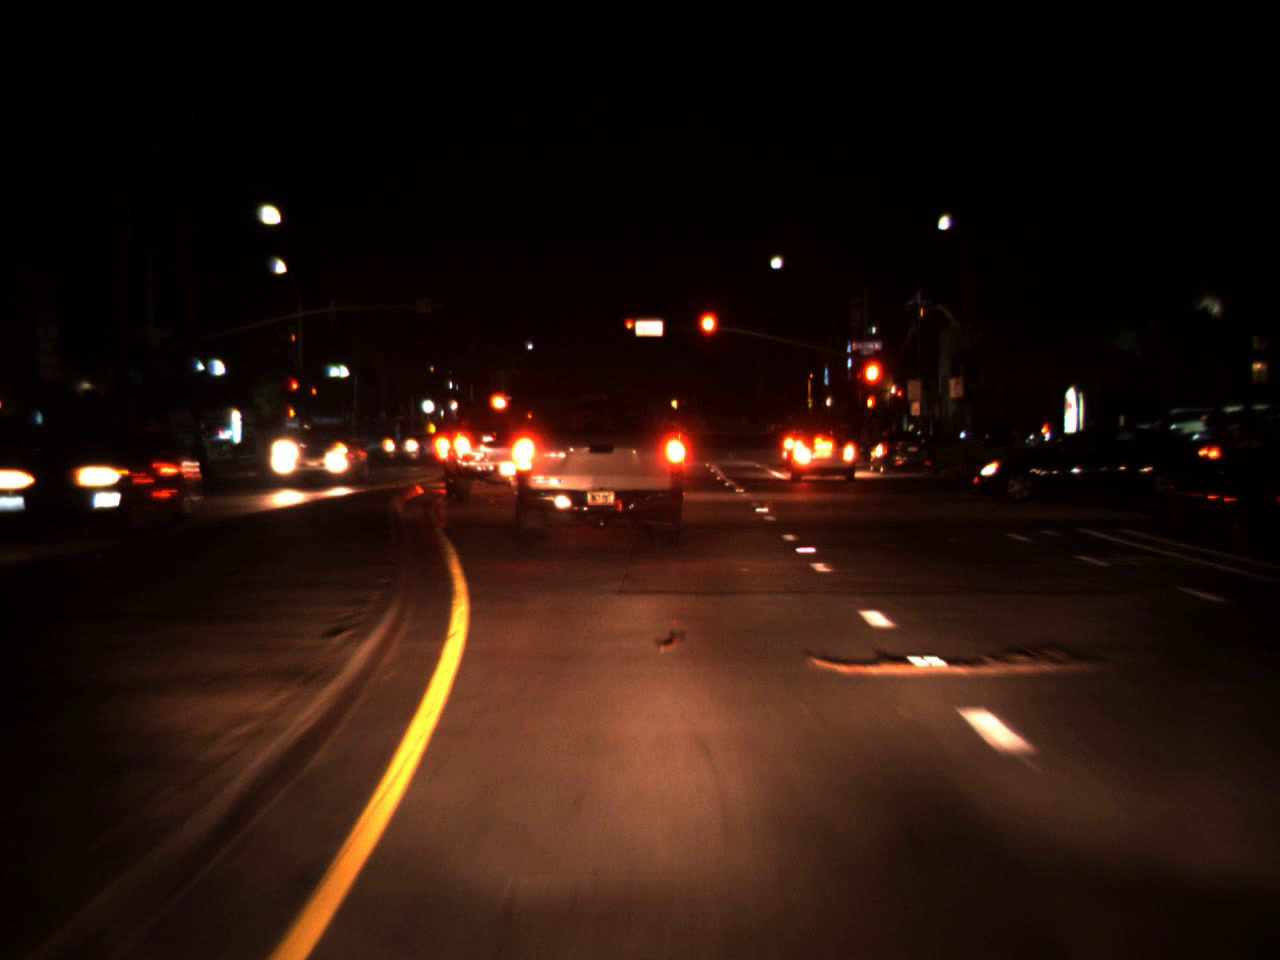stop: (858, 356, 886, 415), (695, 307, 720, 363), (624, 318, 636, 336), (290, 380, 299, 398)
